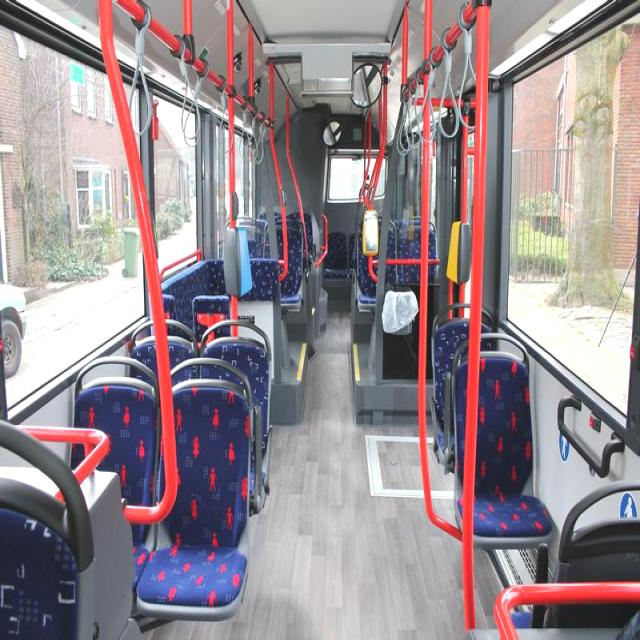asiento-libre: (136, 352, 256, 618), (134, 357, 253, 622), (450, 332, 554, 590), (1, 414, 105, 640), (452, 331, 556, 547), (72, 355, 161, 579), (526, 475, 640, 640), (197, 321, 272, 510), (197, 317, 272, 497), (431, 297, 496, 474), (160, 256, 230, 344), (230, 254, 282, 346), (128, 316, 196, 386), (131, 317, 200, 384), (355, 208, 397, 314), (262, 216, 307, 301), (434, 308, 495, 369), (280, 211, 316, 310), (399, 217, 440, 297), (404, 218, 440, 302), (379, 216, 407, 294), (321, 231, 353, 299), (218, 213, 262, 253), (325, 230, 348, 282), (289, 211, 311, 222)
